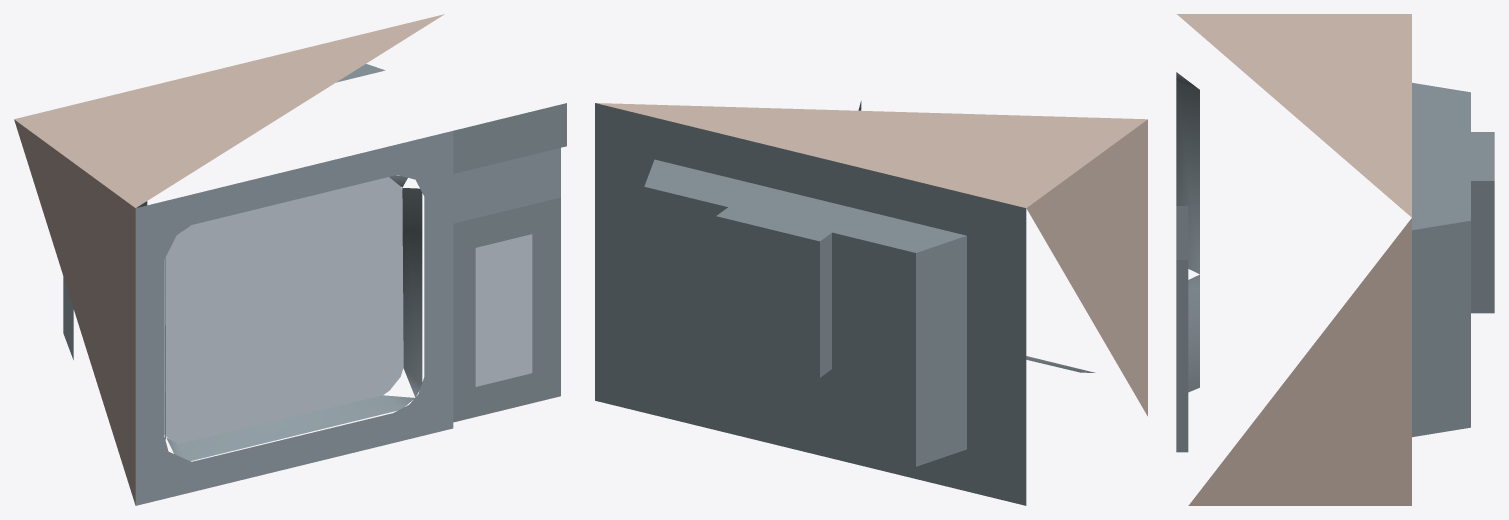
Rendered from televisionVintage.glb.
The picture shows the model from 3 angles, left to right: view 1: azimuth 30°, elevation 25°; view 2: azimuth 150°, elevation 25°; view 3: azimuth 270°, elevation 25°; orthographic projection. The views are drawn at different scales.
Visible parts, largest first — view 1: televisionVintage(Clone); view 2: televisionVintage(Clone); view 3: televisionVintage(Clone).
Part boxes in pixels (x1,y1,x2,y2): televisionVintage(Clone): (14,14,566,505); televisionVintage(Clone): (595,101,1147,505); televisionVintage(Clone): (1176,14,1494,505).
Bounding box in the file's own units: 0.41 × 0.2704 × 0.2704.
